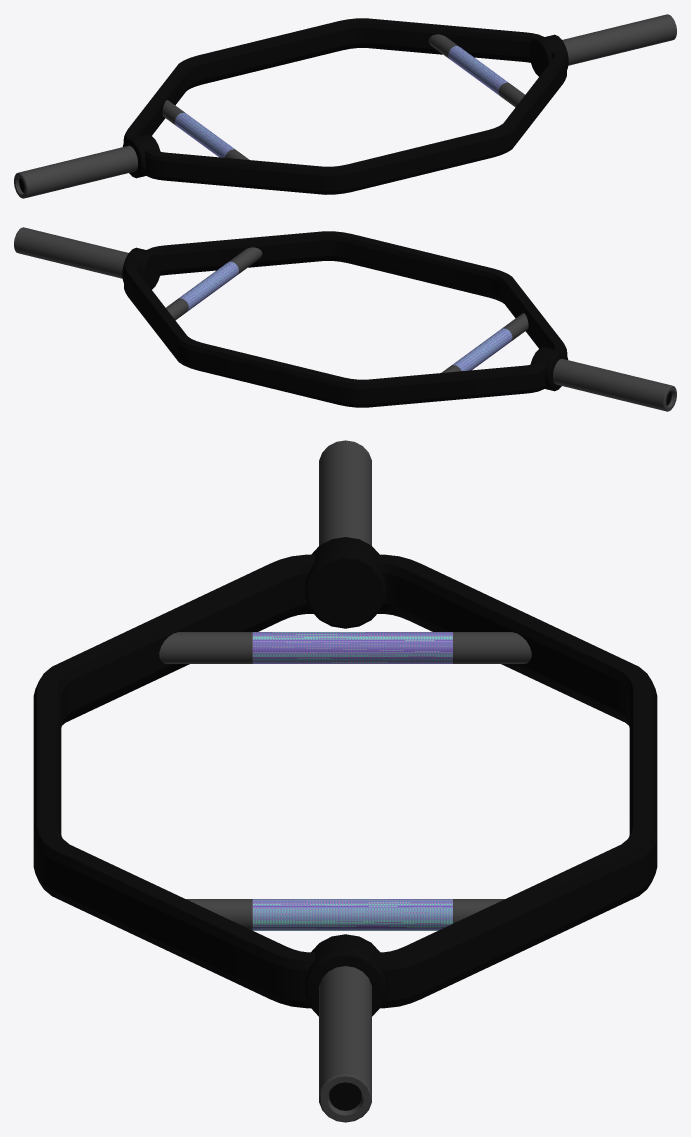
Rendered from Barbell_Bar_4.FBX.
The picture shows the model from 3 angles, top to bottom: view 1: azimuth 30°, elevation 25°; view 2: azimuth 150°, elevation 25°; view 3: azimuth 270°, elevation 25°; orthographic projection. The views are drawn at different scales.
Parts seen in each view (by area): view 1: Barbell_Bar_4; view 2: Barbell_Bar_4; view 3: Barbell_Bar_4.
Part boxes in pixels (x1=…): Barbell_Bar_4: x1=14, y1=14, x2=676, y2=198; Barbell_Bar_4: x1=14, y1=227, x2=676, y2=411; Barbell_Bar_4: x1=33, y1=440, x2=657, y2=1122.
Size of the model in its own units: 1.41 by 0.5852 by 0.0766.
